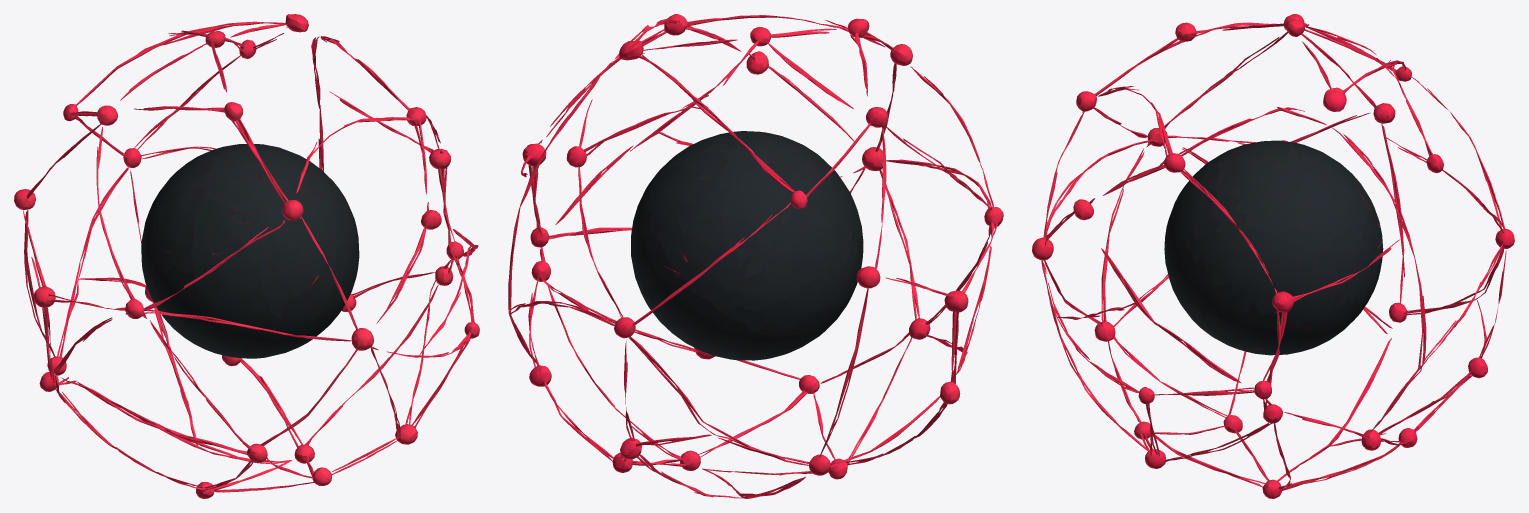
The model's file is network-sphere.glb.
3 views of the same model, side by side, from view 1: azimuth 30°, elevation 25°; view 2: azimuth 150°, elevation 25°; view 3: azimuth 270°, elevation 25° (orthographic). The views are drawn at different scales.
Size of the model in its own units: 1.89 by 1.9 by 1.89.
1 material, 1 textured.
